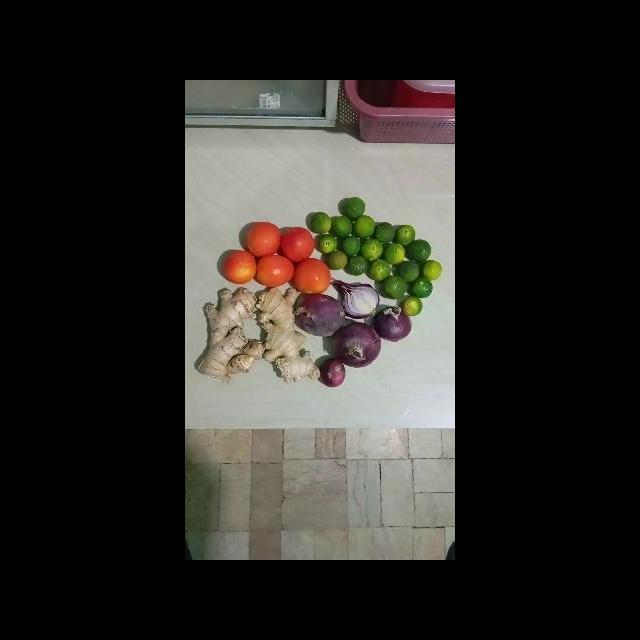ginger: (253, 284, 325, 385), (195, 286, 264, 385)
onion: (291, 290, 346, 339), (330, 320, 382, 370), (328, 275, 382, 321), (372, 304, 414, 343), (316, 355, 348, 390)
